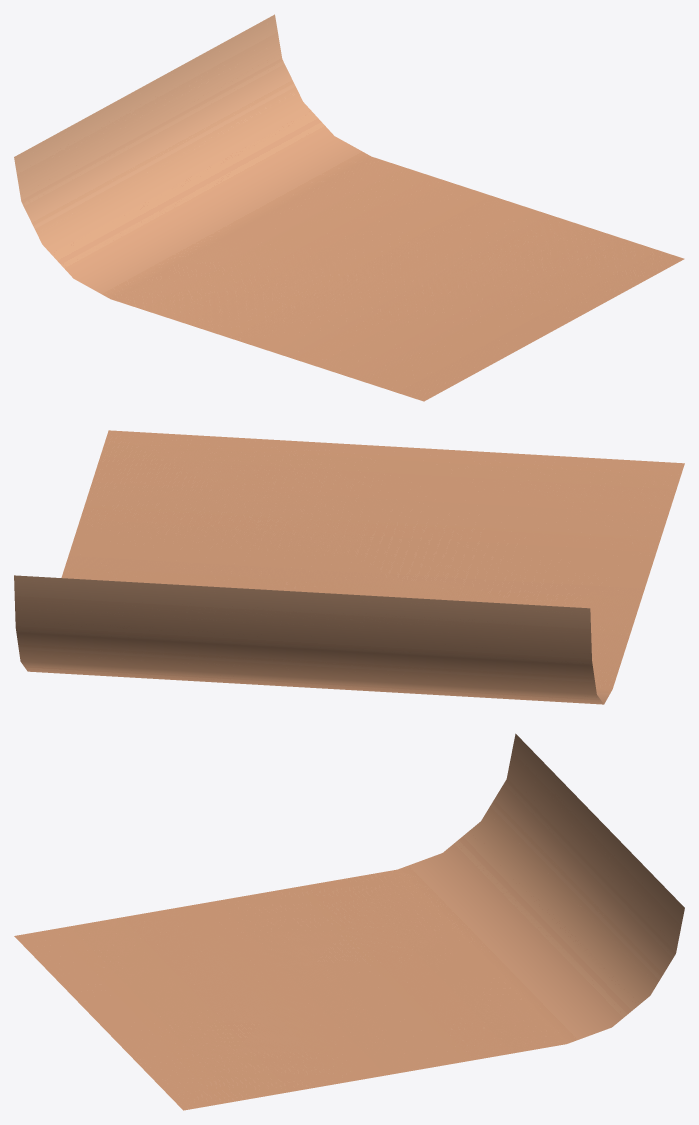
File: paper_lev3.glb
3 views of the same model, one above another, from view 1: azimuth 30°, elevation 25°; view 2: azimuth 150°, elevation 25°; view 3: azimuth 270°, elevation 25° (orthographic). The views are drawn at different scales.
Parts seen in each view (by area): view 1: paper_lev3; view 2: paper_lev3; view 3: paper_lev3.
Part boxes in pixels (x1,y1,x2,y2): paper_lev3: [14, 14, 684, 401]; paper_lev3: [14, 430, 684, 704]; paper_lev3: [14, 733, 684, 1110].
Size of the model in its own units: 1.66 by 0.3434 by 1.8.
1 material, 1 textured.
